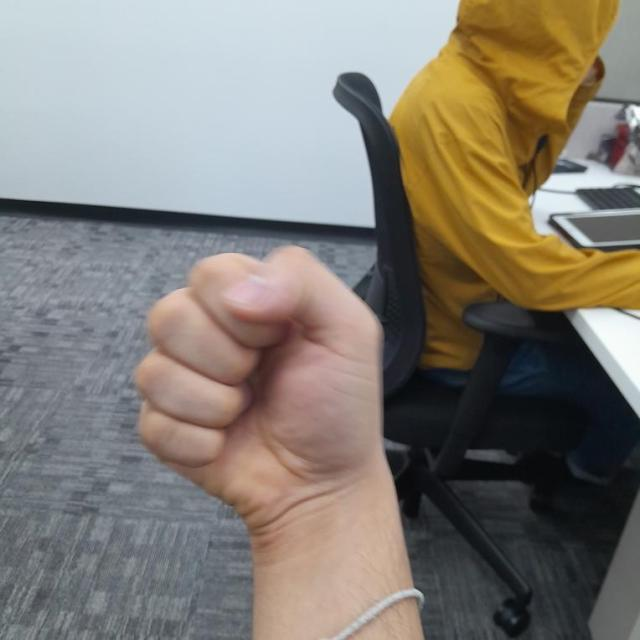fist: (131, 243, 385, 545)
